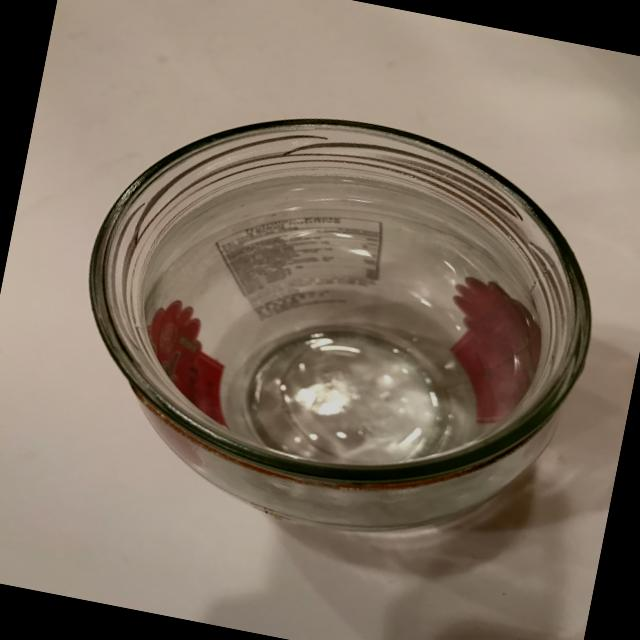Glass: (38, 69, 640, 578)
